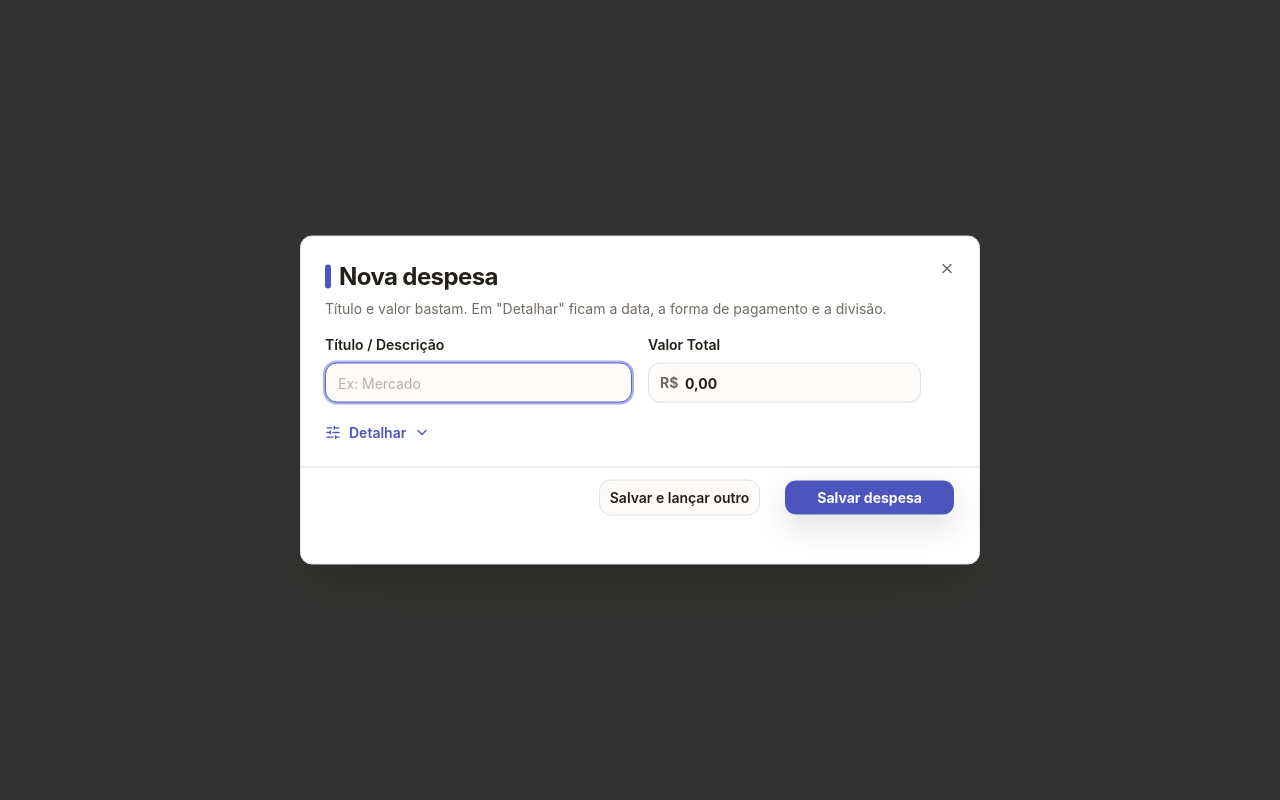
Test: Nova despesa — categoria, tags, observação e divisão › categoria e observação aparecem ao detalhar, sem abrir a divisão, e cada campo diz o que é
The width and height of the screenshot is (1280, 800).
What coordinates should you click on to do the following:
click the button "Detalhar"
I would click on:
 (378, 432)
Its box is top-left (325, 422), bottom-right (430, 442).
(page scrolled)
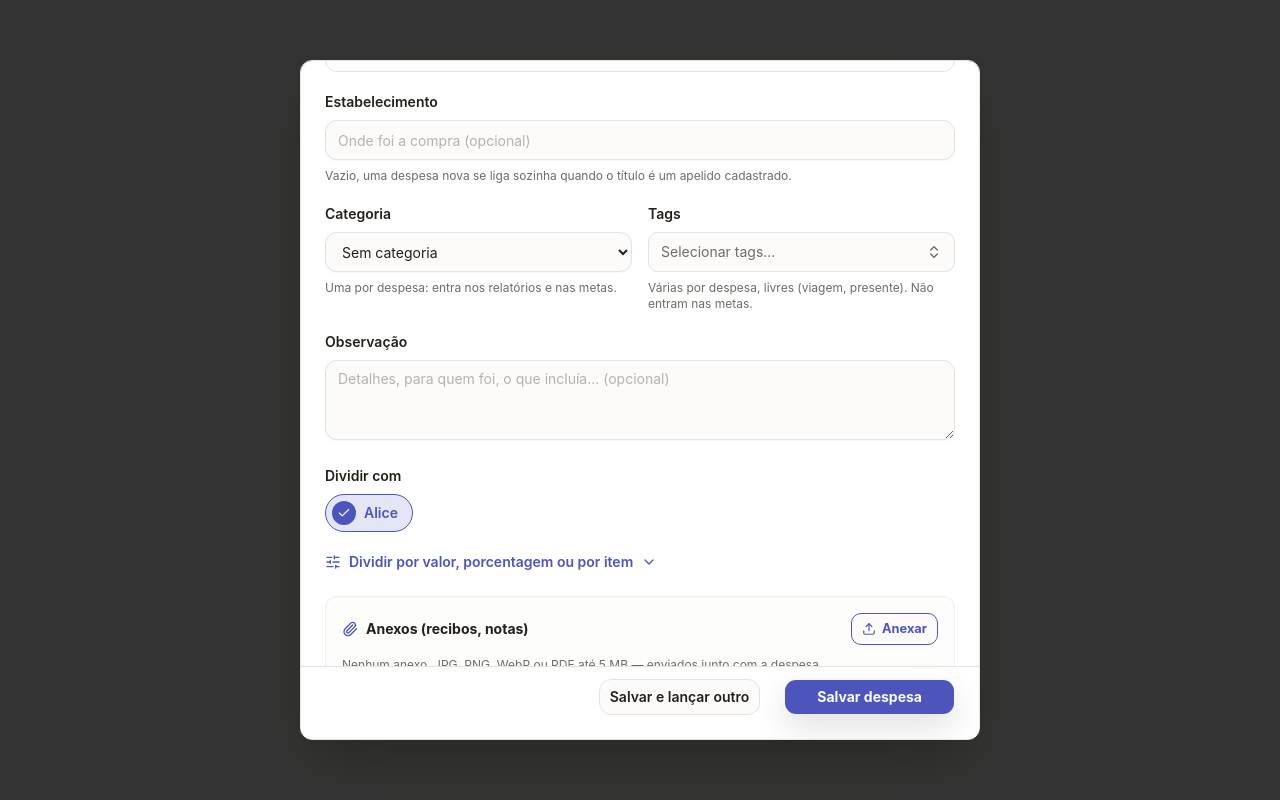
Now the dropdown labelled "Categoria" is shown, box top-left (325, 232), bottom-right (632, 272)
Now the text "Uma por despesa: entra nos relatórios e nas metas." is shown, box top-left (325, 280), bottom-right (632, 296)
Now the text "Não entram nas metas" is shown, box top-left (648, 280), bottom-right (934, 311)
